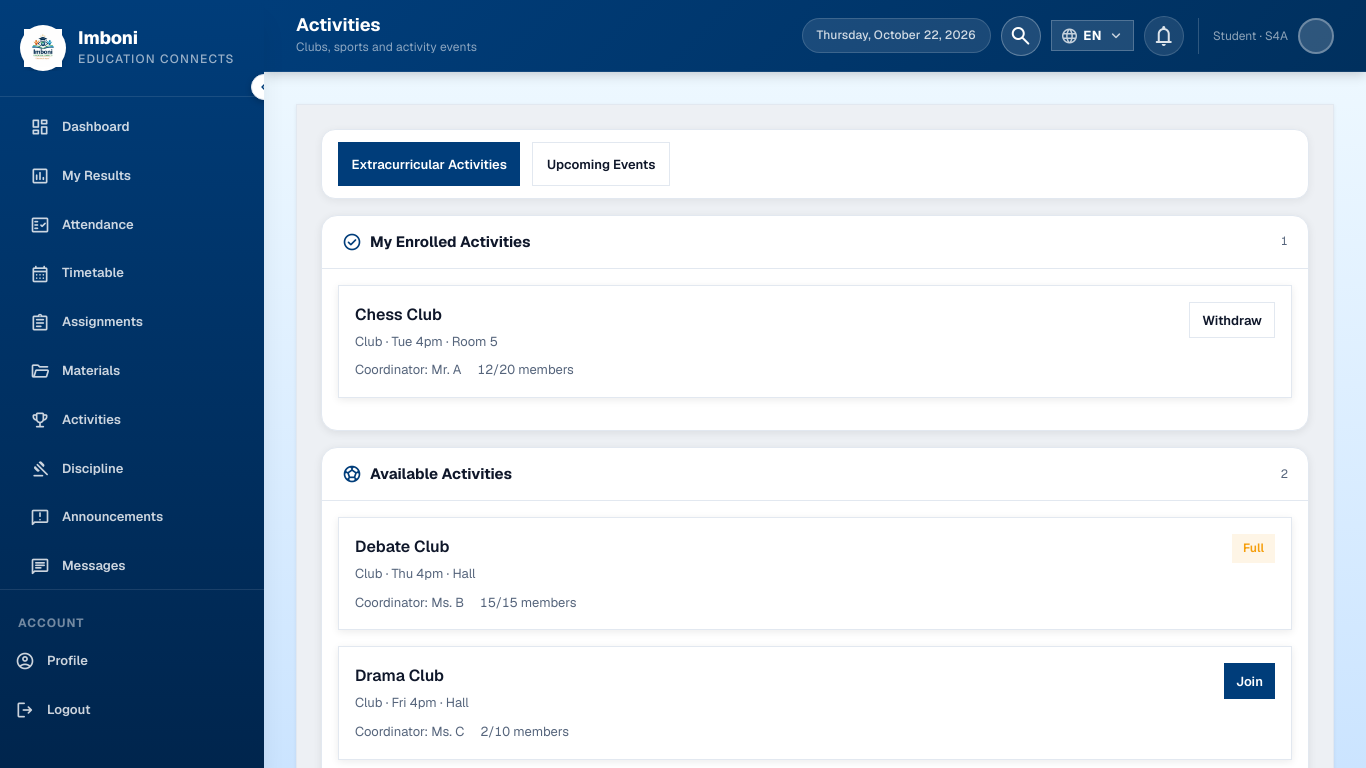
Scenario: StudentActivities › shows the Upcoming Events tab content
Expected: the text "Chess Club" is shown, [355,304,442,325]
Click the button "Upcoming Events": (601, 164) [532,142,670,186]
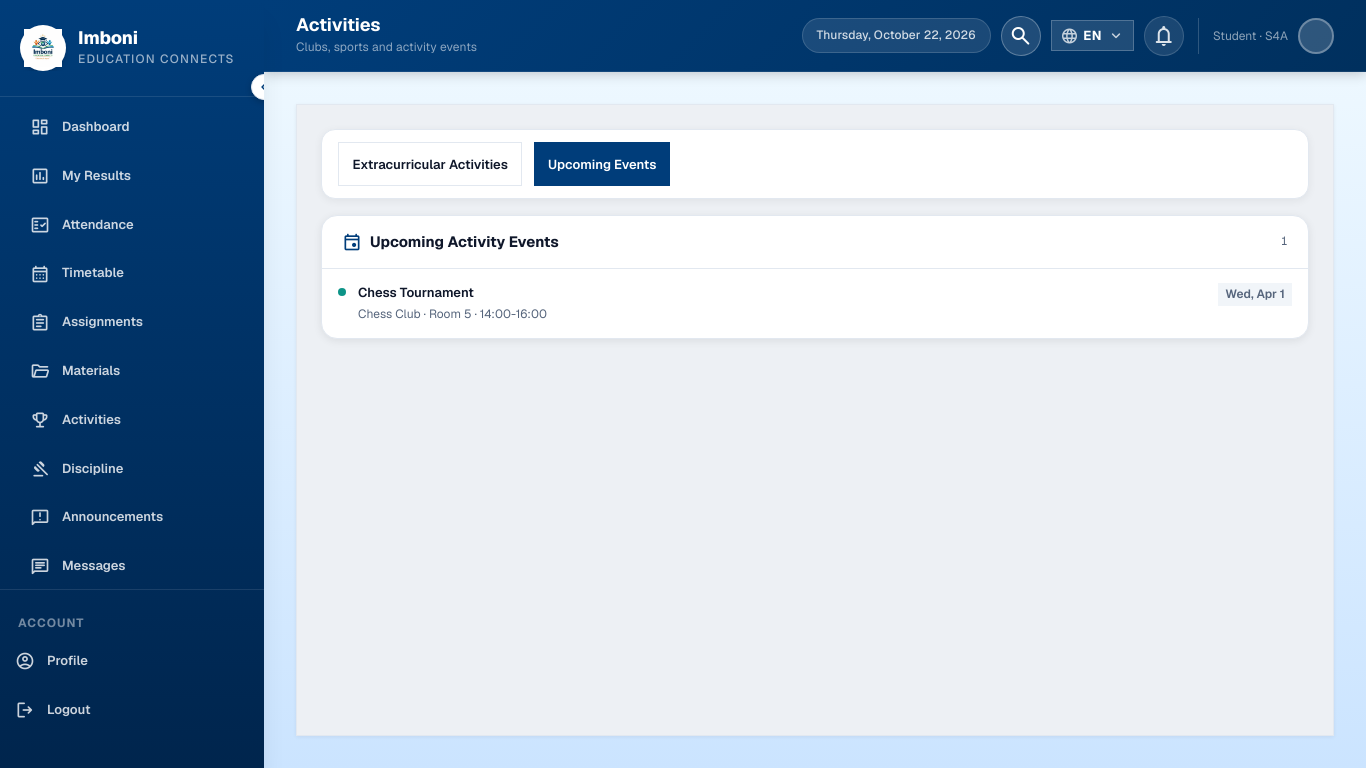
Expected: the text "Chess Tournament" is shown, [358,284,474,301]
